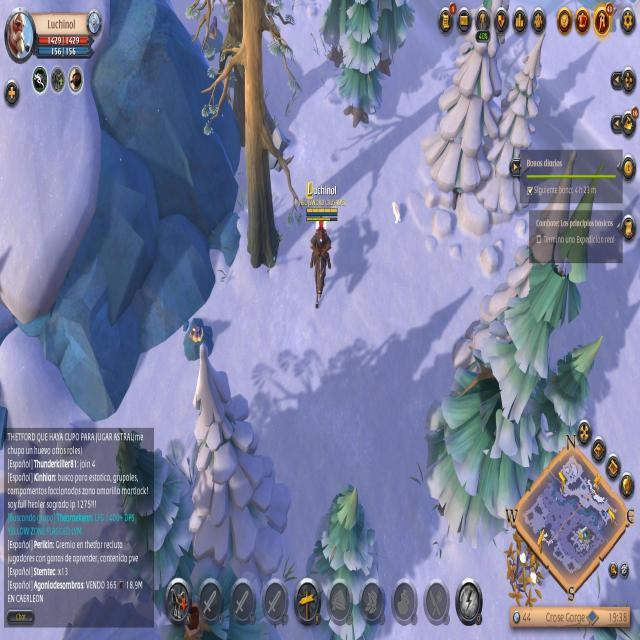piedra_cobre: (181, 314, 217, 364)
